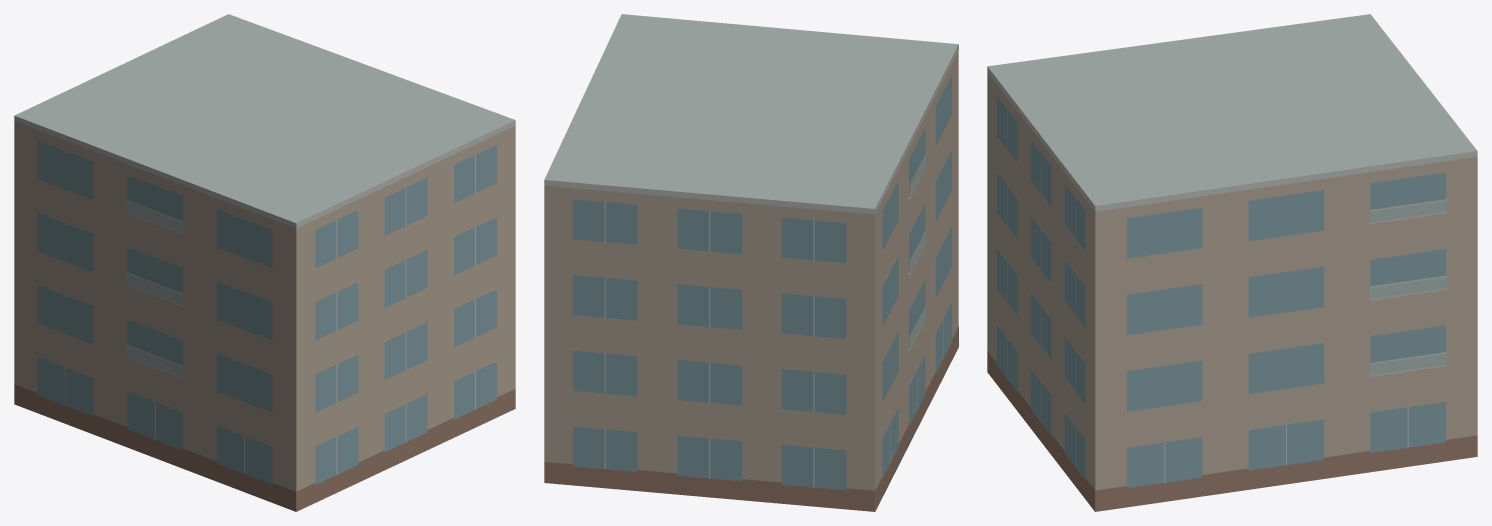
The model's file is survey-upis-32943860.glb.
The picture shows the model from 3 angles, left to right: view 1: azimuth 30°, elevation 25°; view 2: azimuth 150°, elevation 25°; view 3: azimuth 270°, elevation 25°; orthographic projection. The views are drawn at different scales.
Visible parts, largest first — view 1: survey-upis-32943860.tmp; view 2: survey-upis-32943860.tmp; view 3: survey-upis-32943860.tmp.
Boxes of the visible parts, x1,y1,x2,y2 form: survey-upis-32943860.tmp: [14, 14, 515, 511]; survey-upis-32943860.tmp: [544, 14, 958, 511]; survey-upis-32943860.tmp: [987, 14, 1477, 511].
Bounding box in the file's own units: 17.47 × 12.96 × 18.84.
